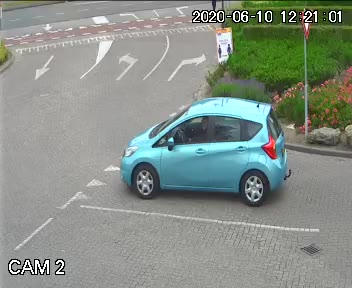car: (109, 97, 290, 215)
